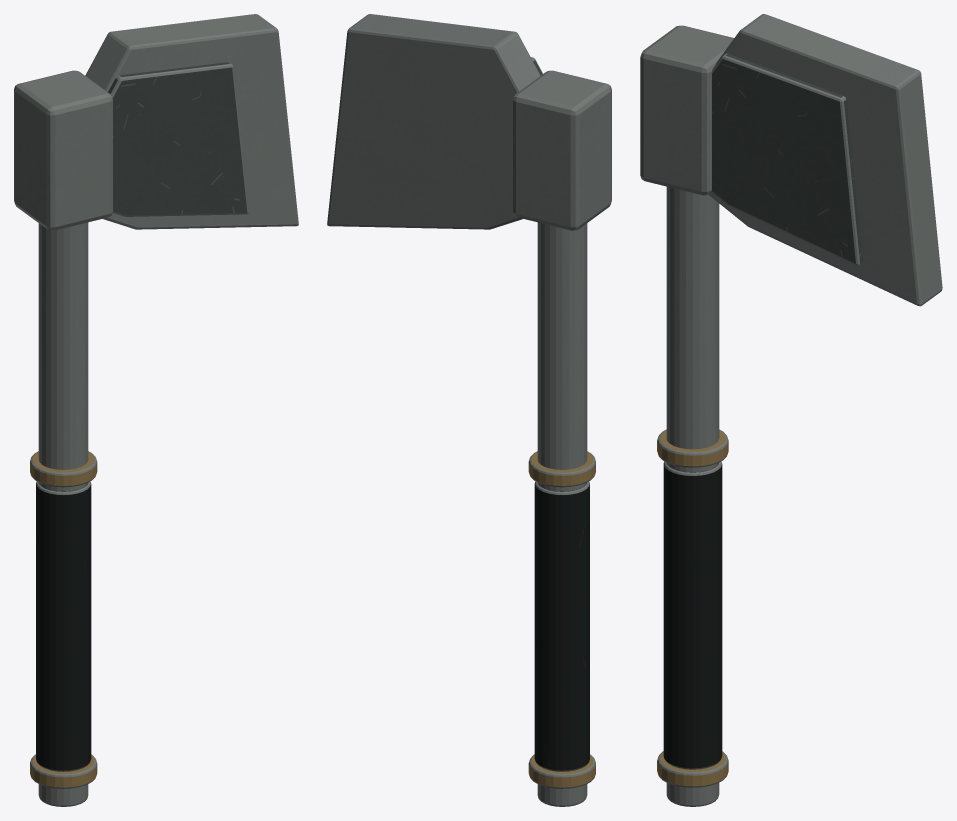
Rendered from axe-t1.glb.
3 views of the same model, side by side, from view 1: azimuth 30°, elevation 25°; view 2: azimuth 150°, elevation 25°; view 3: azimuth 330°, elevation 25° (orthographic). The views are drawn at different scales.
Parts seen in each view (by area): view 1: Axe painted cheek, Axe continuous cutting edge, Continuous two-hand wrap, Axe shaft socket, Steel shaft, Grip ferrule.001, Grip ferrule; view 2: Axe continuous cutting edge, Continuous two-hand wrap, Axe shaft socket, Steel shaft, Grip ferrule.001, Grip ferrule; view 3: Axe continuous cutting edge, Axe painted cheek, Continuous two-hand wrap, Steel shaft, Axe shaft socket, Grip ferrule.001, Grip ferrule.
Boxes of the visible parts, x1,y1,x2,y2 form: Axe painted cheek: [108, 62, 248, 216]; Axe continuous cutting edge: [85, 14, 298, 229]; Continuous two-hand wrap: [36, 481, 91, 771]; Axe shaft socket: [14, 70, 112, 230]; Steel shaft: [38, 222, 88, 806]; Grip ferrule.001: [30, 451, 97, 487]; Grip ferrule: [30, 754, 97, 788]; Axe continuous cutting edge: [327, 14, 540, 229]; Continuous two-hand wrap: [534, 481, 589, 771]; Axe shaft socket: [513, 70, 611, 230]; Steel shaft: [537, 222, 587, 806]; Grip ferrule.001: [528, 451, 595, 487]; Grip ferrule: [528, 754, 595, 788]; Axe continuous cutting edge: [709, 14, 942, 306]; Axe painted cheek: [711, 53, 862, 265]; Continuous two-hand wrap: [663, 461, 722, 769]; Steel shaft: [666, 186, 719, 806]; Axe shaft socket: [640, 25, 733, 195]; Grip ferrule.001: [657, 429, 728, 467]; Grip ferrule: [657, 751, 728, 787].
Size of the model in its own units: 0.7441 by 2.05 by 0.19.
4 materials, 4 textured.
